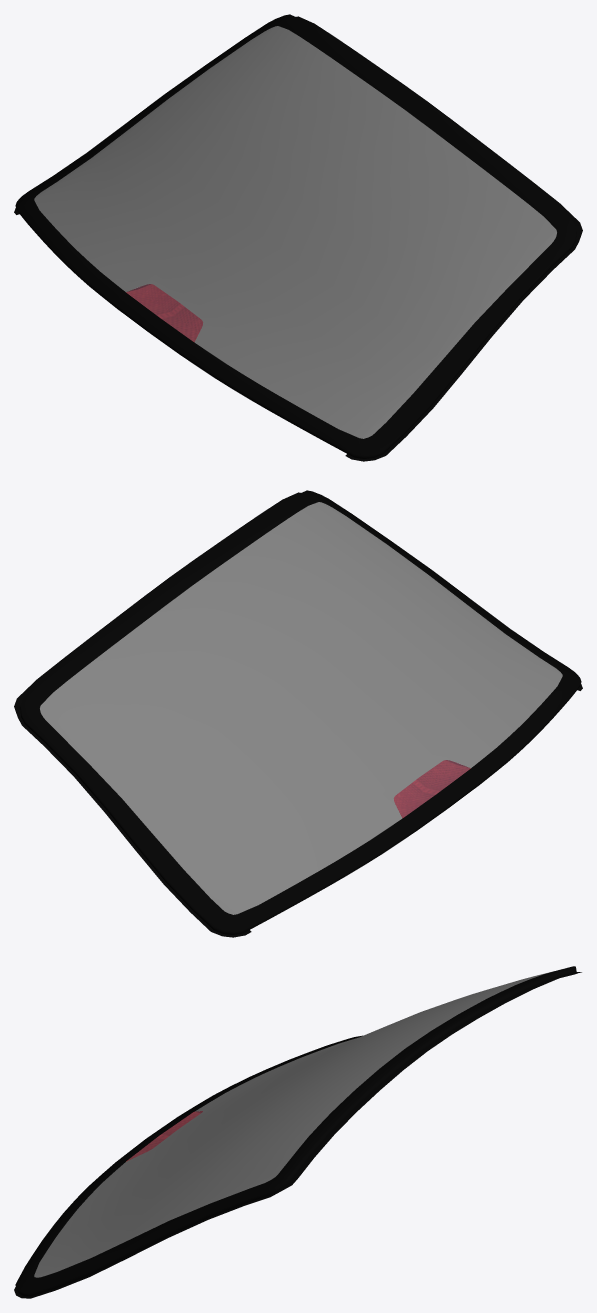
The picture shows the model from 3 angles, top to bottom: view 1: azimuth 30°, elevation 25°; view 2: azimuth 150°, elevation 25°; view 3: azimuth 330°, elevation 25°; orthographic projection.
Parts seen in each view (by area): view 1: Y210_365C_C_Y210_365C_C_2_DTaSI, Y210_365C_C_1_DTaSI_Y210_365C_C, Y210_365C_C_Y210_365C_C_5_D, Y210_365C_C_Y210_365C_C_4_N, Y210_365C_C_Y210_365C_C_3_DTaSI; view 2: Y210_365C_C_Y210_365C_C_2_DTaSI, Y210_365C_C_1_DTaSI_Y210_365C_C, Y210_365C_C_Y210_365C_C_5_D, Y210_365C_C_Y210_365C_C_4_N, Y210_365C_C_Y210_365C_C_3_DTaSI; view 3: Y210_365C_C_Y210_365C_C_2_DTaSI, Y210_365C_C_1_DTaSI_Y210_365C_C, Y210_365C_C_Y210_365C_C_5_D, Y210_365C_C_Y210_365C_C_4_N, Y210_365C_C_Y210_365C_C_3_DTaSI.
Boxes of the visible parts, x1,y1,x2,y2 form: Y210_365C_C_Y210_365C_C_2_DTaSI: (34,26,556,438); Y210_365C_C_1_DTaSI_Y210_365C_C: (15,14,576,458); Y210_365C_C_Y210_365C_C_5_D: (14,16,582,461); Y210_365C_C_Y210_365C_C_4_N: (126,284,202,341); Y210_365C_C_Y210_365C_C_3_DTaSI: (126,284,202,341); Y210_365C_C_Y210_365C_C_2_DTaSI: (40,502,562,914); Y210_365C_C_1_DTaSI_Y210_365C_C: (20,490,581,934); Y210_365C_C_Y210_365C_C_5_D: (14,492,582,937); Y210_365C_C_Y210_365C_C_4_N: (394,760,470,817); Y210_365C_C_Y210_365C_C_3_DTaSI: (394,760,470,817); Y210_365C_C_Y210_365C_C_2_DTaSI: (34,971,553,1277); Y210_365C_C_1_DTaSI_Y210_365C_C: (15,966,576,1296); Y210_365C_C_Y210_365C_C_5_D: (14,972,581,1298); Y210_365C_C_Y210_365C_C_4_N: (126,1111,202,1161); Y210_365C_C_Y210_365C_C_3_DTaSI: (128,1111,202,1160).
Size of the model in its own units: 76.24 by 44.31 by 160.
